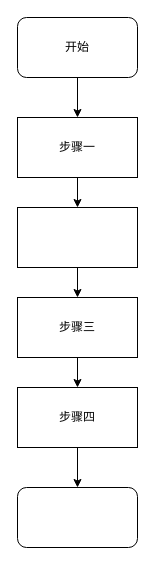
This 155x565 diagram has some shape labels left out. Each missing label, with the centre of its shape:
"步骤二" goes at (77,237).
"结束" goes at (77,517).
